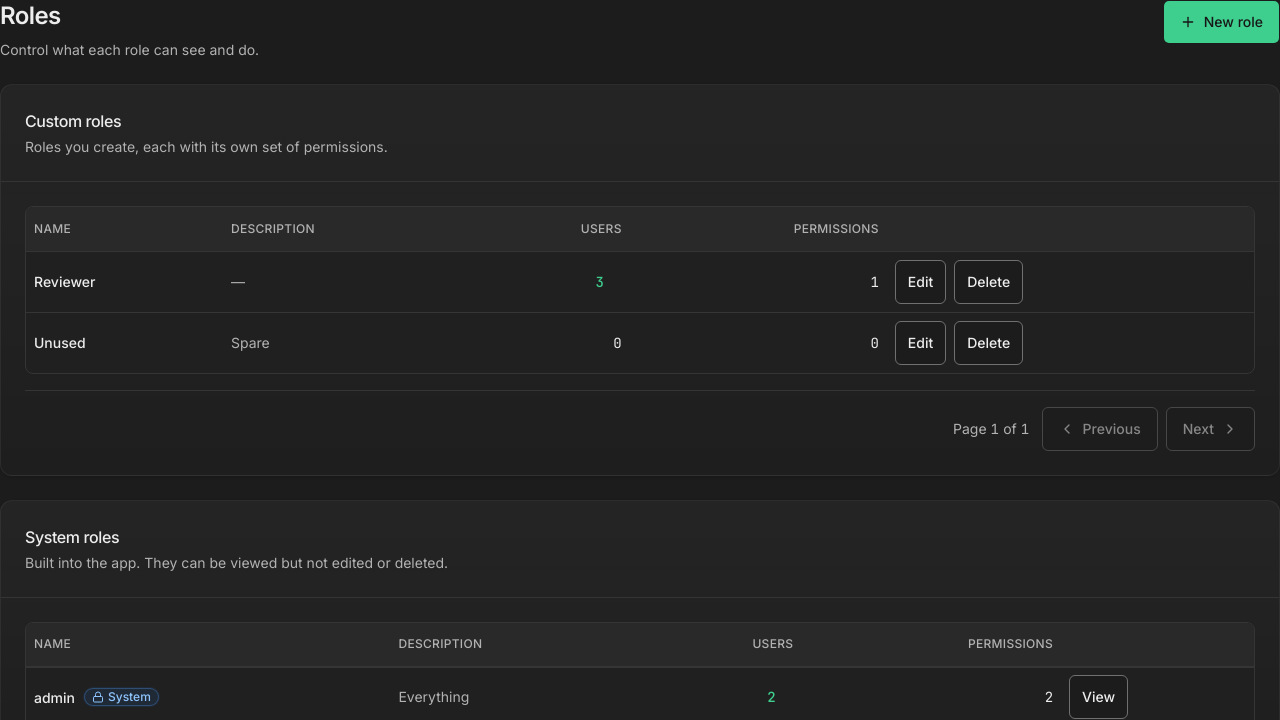
Test: Roles tab › the user count opens the role's users, deleted ones marked
Click the button "3" at (600, 282), box [578,260,622,304]
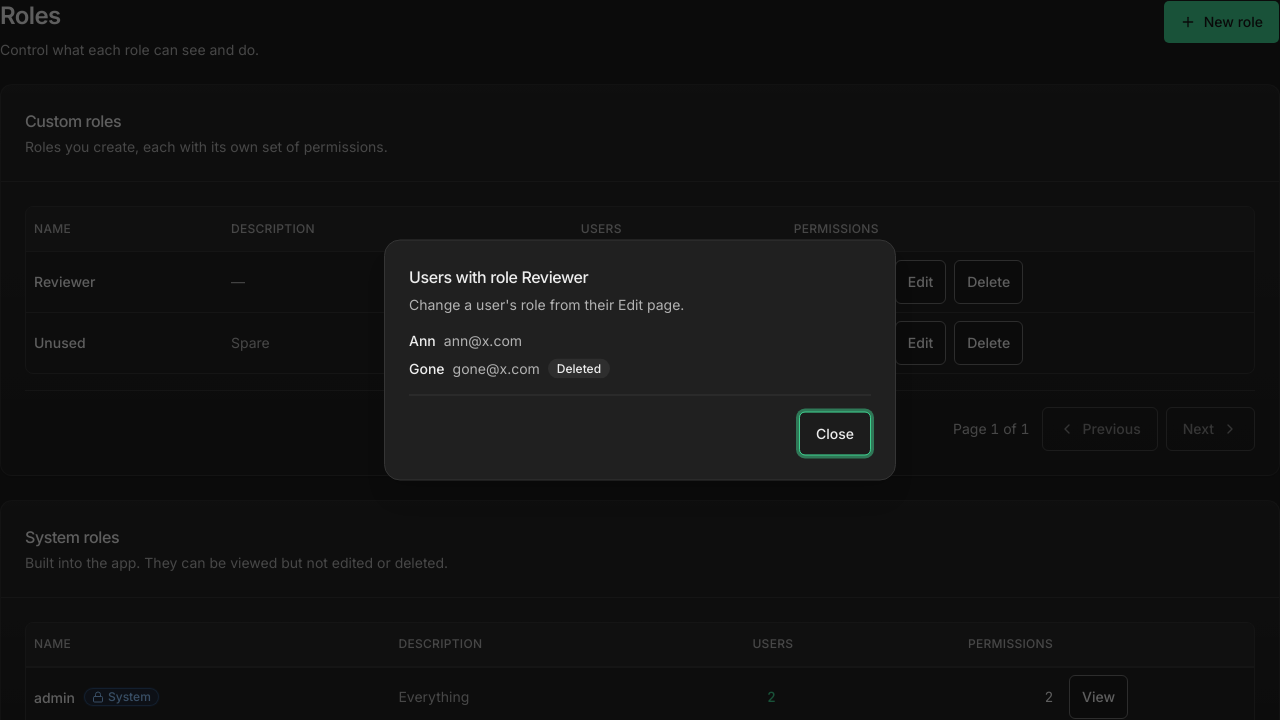
Expected: the text "ann@x.com" is shown, [444,330,522,350]
Expected: the list item "Gone" shows "Deleted", [557,360,601,376]
